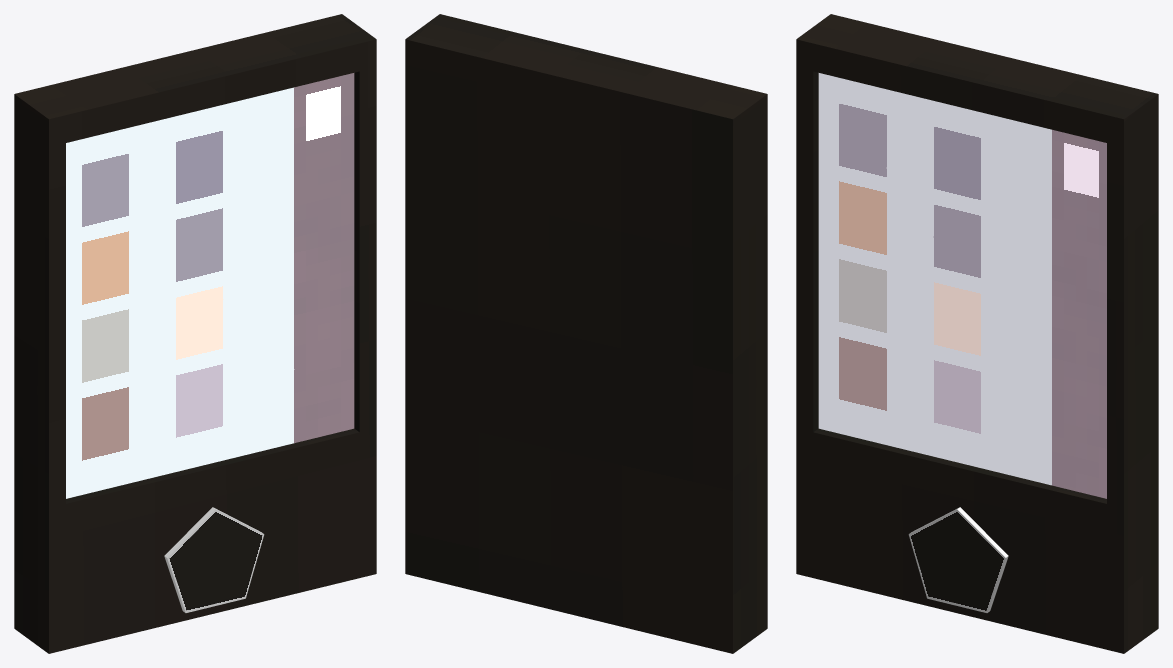
Rendered from phone.glb.
The picture shows the model from 3 angles, left to right: view 1: azimuth 30°, elevation 25°; view 2: azimuth 150°, elevation 25°; view 3: azimuth 330°, elevation 25°; orthographic projection.
Parts seen in each view (by area): view 1: body, screen; view 2: body; view 3: body, screen.
Boxes of the visible parts, box(x1,y1,x2,y2) form: body: box(14, 14, 376, 653); screen: box(66, 73, 354, 498); body: box(405, 14, 767, 653); body: box(796, 14, 1158, 653); screen: box(818, 73, 1106, 498).
Bounding box in the file's own units: 0.1283 × 0.2 × 0.0255.
2 materials, 2 textured.
